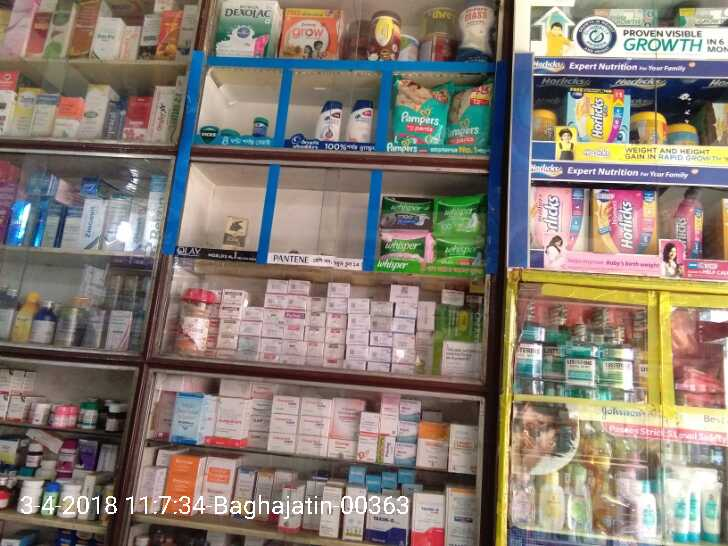vicks: (249, 115, 270, 137)
